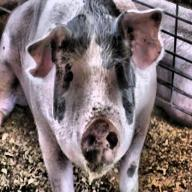boar: (0, 0, 166, 191)
